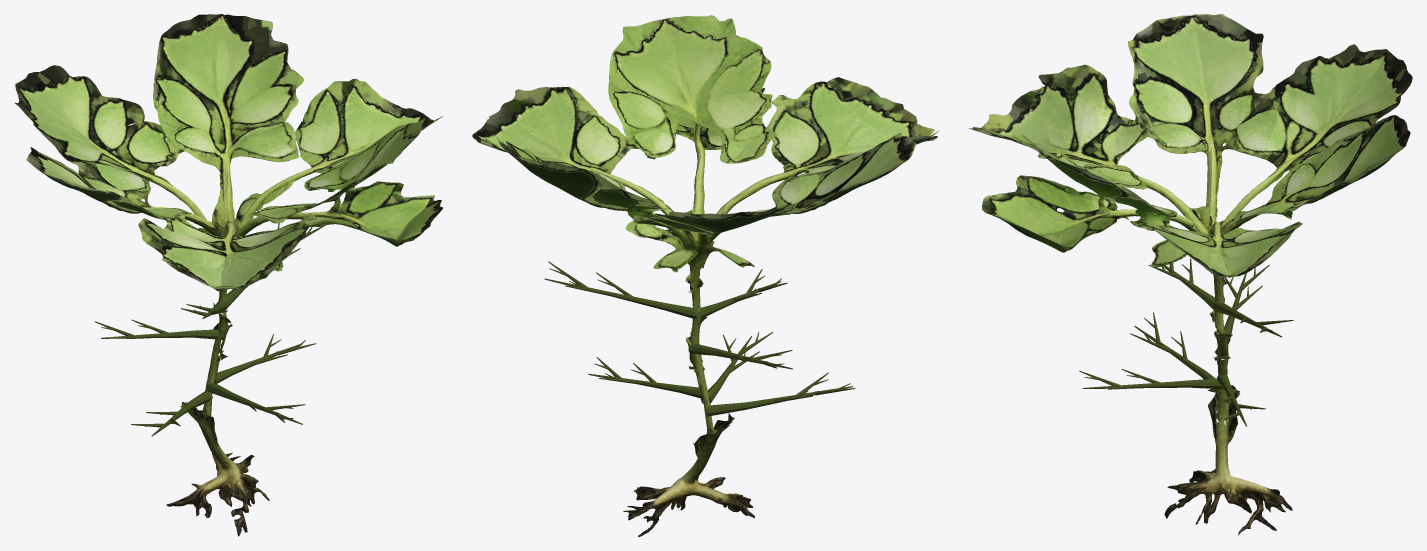
The picture shows the model from 3 angles, left to right: view 1: azimuth 30°, elevation 25°; view 2: azimuth 150°, elevation 25°; view 3: azimuth 270°, elevation 25°; orthographic projection. The views are drawn at different scales.
Visible parts, largest first — view 1: world, branch2, branch5; view 2: world, branch0, branch4, branch3, branch2; view 3: world, branch5.
Part boxes in pixels (left/top/right/bottom): world: left=15, top=14, right=442, bottom=536; branch2: left=101, top=329, right=223, bottom=339; branch5: left=206, top=383, right=302, bottom=424; world: left=472, top=15, right=939, bottom=536; branch0: left=544, top=278, right=698, bottom=318; branch4: left=706, top=386, right=852, bottom=416; branch3: left=588, top=373, right=702, bottom=398; branch2: left=688, top=343, right=792, bottom=369; world: left=969, top=14, right=1412, bottom=535; branch5: left=1082, top=378, right=1222, bottom=389.
Bounding box in the file's own units: 0.16 × 0.1558 × 0.1484.
Materials: 2 (1 with a texture image).
